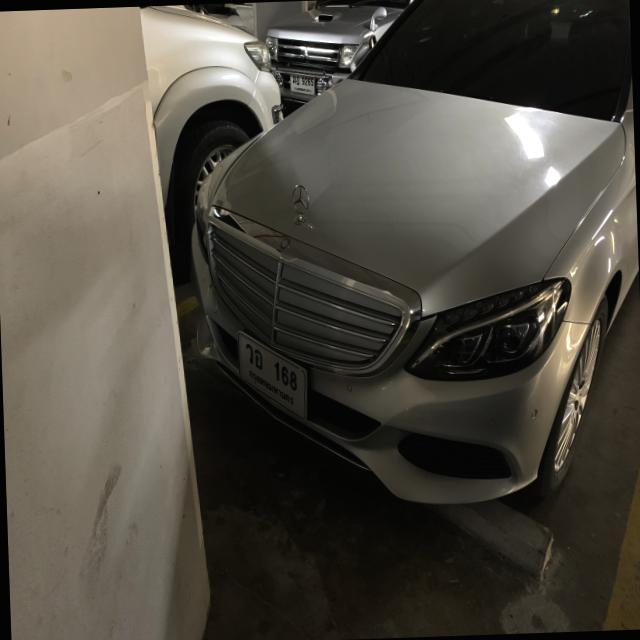license_plate: (236, 324, 308, 426), (286, 69, 316, 98)
